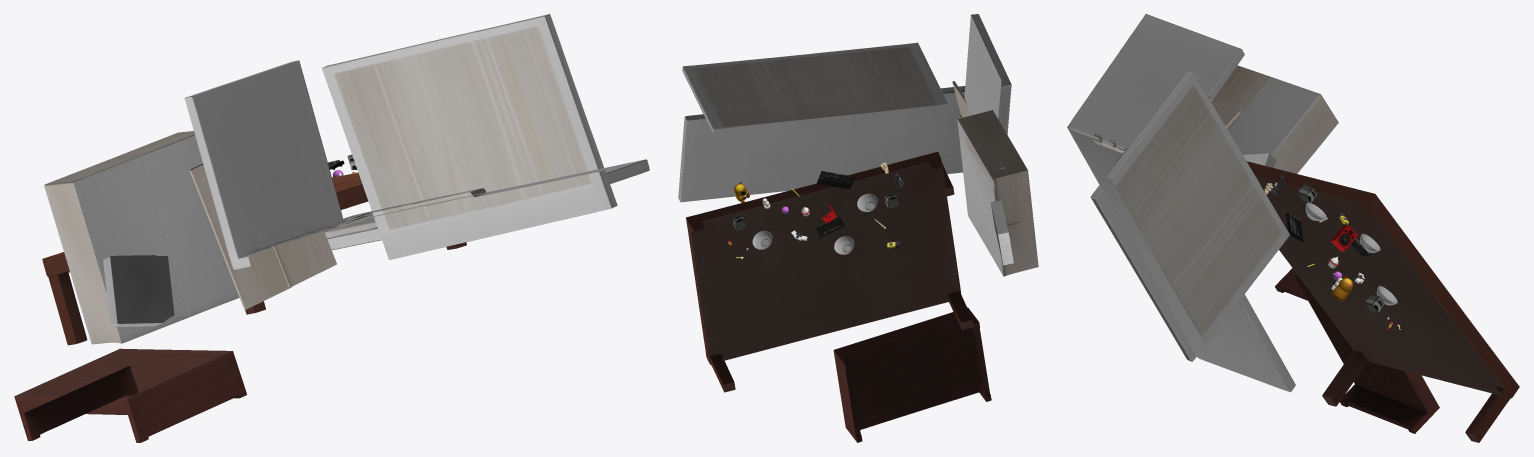
The model's file is viga.glb.
3 views of the same model, side by side, from view 1: azimuth 30°, elevation 25°; view 2: azimuth 150°, elevation 25°; view 3: azimuth 270°, elevation 25° (orthographic). The views are drawn at different scales.
Parts seen in each view (by area): view 1: wooden_wall_panel_mesh, baseboard_trim_mesh, white_wall_mesh, wooden_floor_mesh, wooden_wall_column_mesh, white_wall_panel_mesh, wooden_table_mesh; view 2: wooden_table_mesh, baseboard_trim_mesh, wooden_wall_panel_mesh, wooden_floor_mesh, white_wall_mesh, white_wall_panel_mesh, wooden_wall_column_mesh, mechanical_keyboard_mesh; view 3: wooden_wall_panel_mesh, wooden_table_mesh, baseboard_trim_mesh, white_wall_mesh, wooden_floor_mesh, wooden_wall_column_mesh.
Part boxes in pixels (x1,y1,x2,y2): wooden_wall_panel_mesh: (322, 14, 617, 259); baseboard_trim_mesh: (184, 60, 649, 269); white_wall_mesh: (44, 131, 239, 344); wooden_floor_mesh: (14, 348, 246, 442); wooden_wall_column_mesh: (189, 163, 336, 309); white_wall_panel_mesh: (103, 255, 174, 327); wooden_table_mesh: (42, 173, 466, 345); wooden_table_mesh: (686, 151, 973, 392); baseboard_trim_mesh: (678, 14, 1011, 202); wooden_wall_panel_mesh: (682, 42, 947, 133); wooden_floor_mesh: (833, 307, 991, 442); white_wall_mesh: (957, 110, 1038, 276); white_wall_panel_mesh: (990, 200, 1013, 265); wooden_wall_column_mesh: (952, 81, 995, 188); mechanical_keyboard_mesh: (817, 171, 854, 189); wooden_wall_panel_mesh: (1090, 70, 1289, 361); wooden_table_mesh: (1247, 161, 1519, 442); baseboard_trim_mesh: (1067, 14, 1295, 392); white_wall_mesh: (1213, 65, 1338, 173); wooden_floor_mesh: (1275, 268, 1439, 433); wooden_wall_column_mesh: (1115, 96, 1241, 161).
Size of the model in its own units: 3.96 by 3.57 by 3.53.
27 materials, 15 textured.
